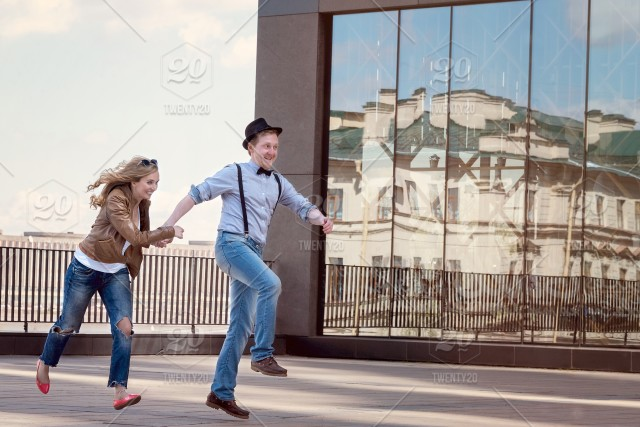Person: (159, 117, 337, 426), (31, 152, 185, 412)
